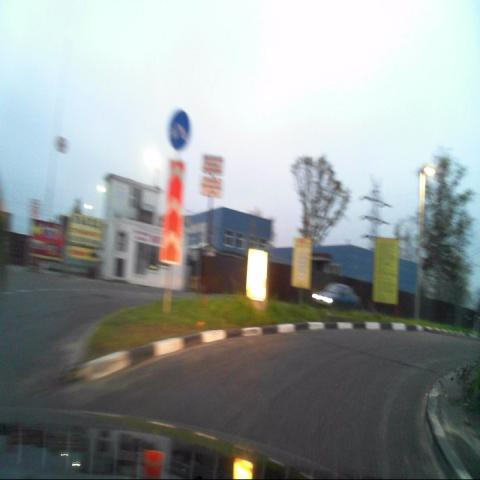4_2_3: (170, 110, 190, 151)
